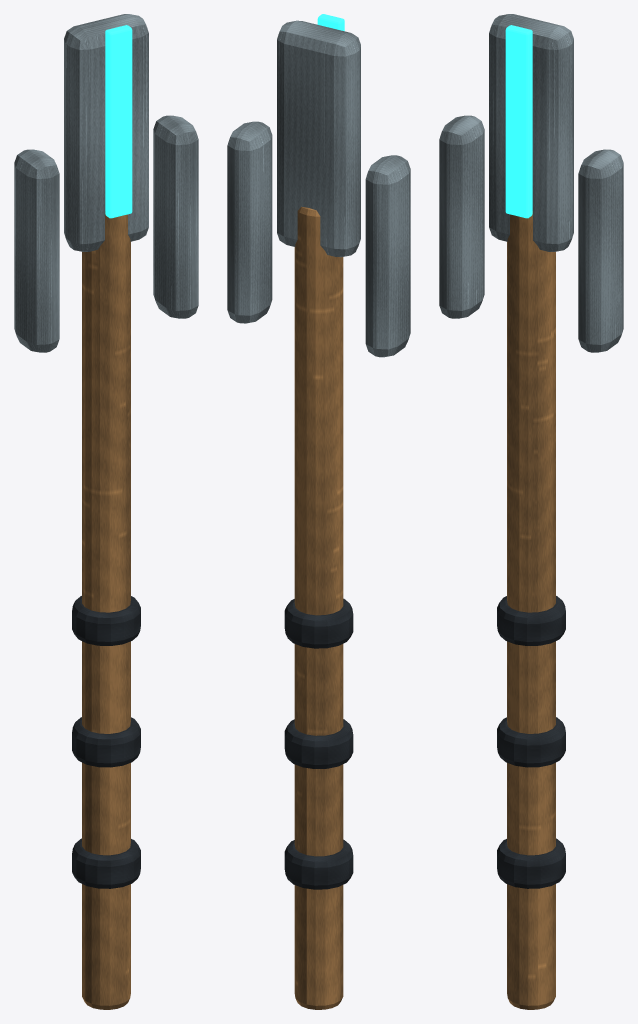
Rendered from spear.glb.
3 views of the same model, side by side, from view 1: azimuth 30°, elevation 25°; view 2: azimuth 150°, elevation 25°; view 3: azimuth 330°, elevation 25° (orthographic).
Visible parts, largest first — view 1: spear; view 2: spear; view 3: spear.
Part boxes in pixels (x1,y1,x2,y2): spear: (14,14,198,1009); spear: (227,14,410,1009); spear: (439,14,623,1009).
Bounding box in the file's own units: 0.44 × 2.43 × 0.156.
4 materials, 3 textured.
